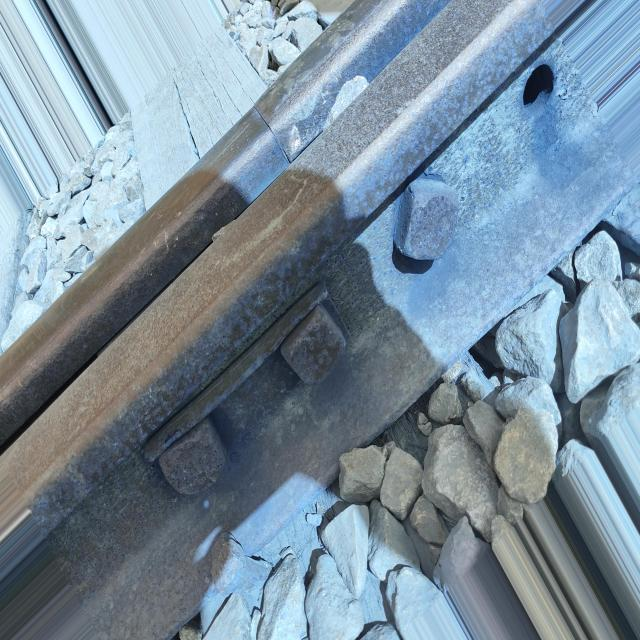Defective Joint: (49, 39, 632, 638)
